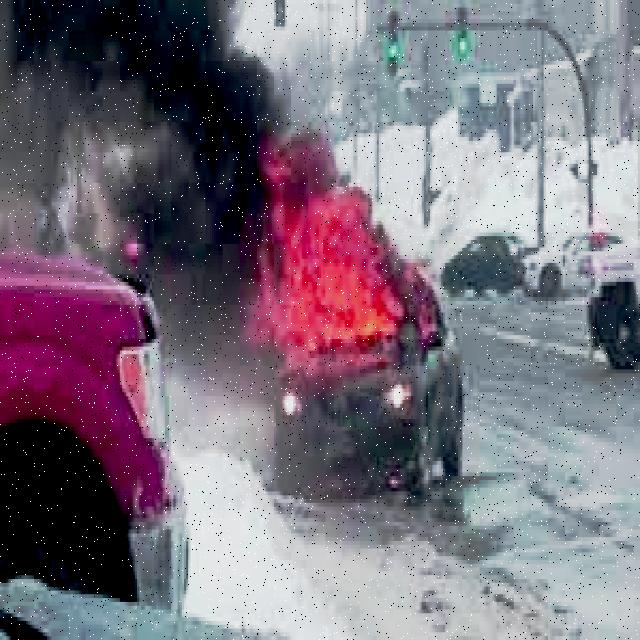api: (241, 135, 455, 398)
